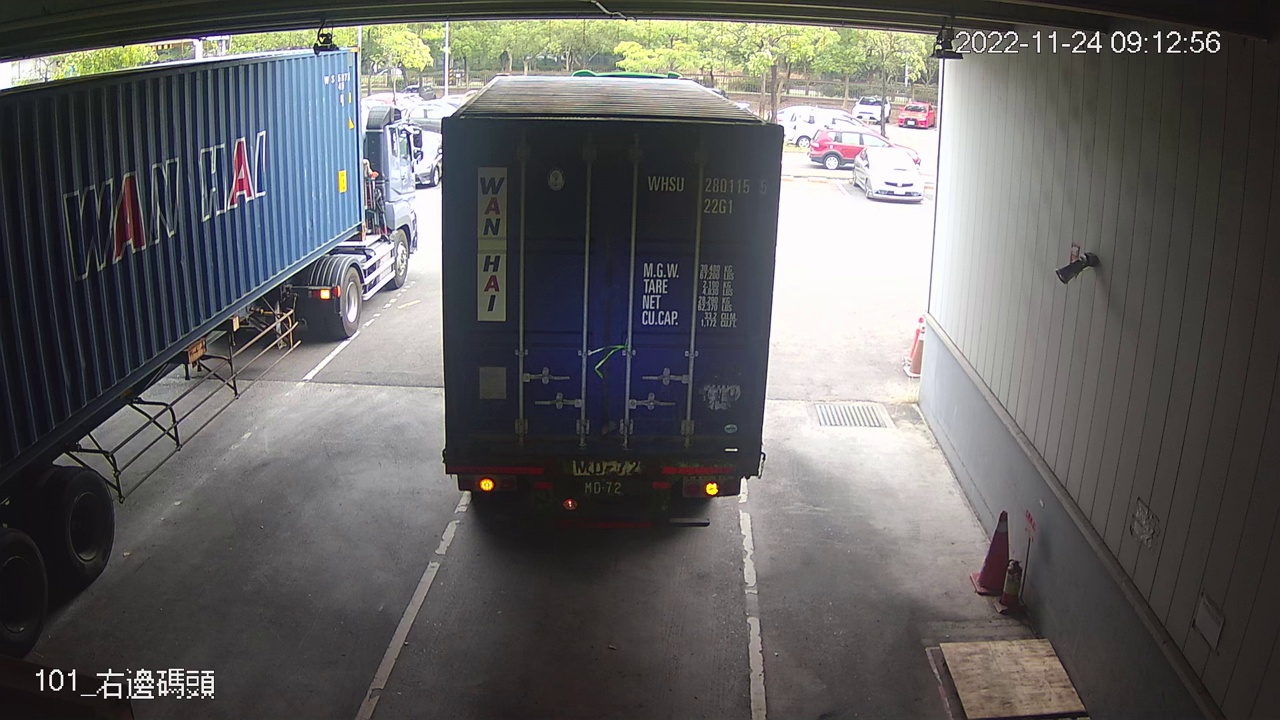container: (638, 165, 774, 220)
